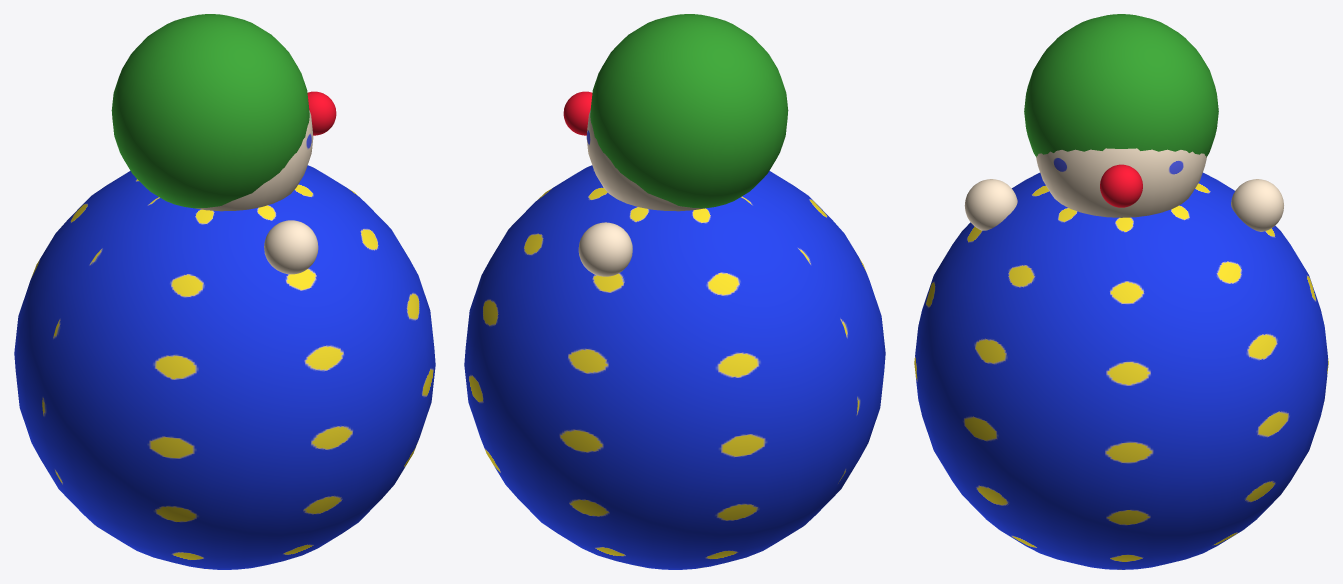
File: clown_blueyellowdot.gltf
3 renders of one model, left to right at view 1: azimuth 30°, elevation 25°; view 2: azimuth 150°, elevation 25°; view 3: azimuth 270°, elevation 25°, orthographic.
Parts seen in each view (by area): view 1: Clown; view 2: Clown; view 3: Clown.
Part boxes in pixels (<box>): Clown: <box>14,14,435,569</box>; Clown: <box>464,14,885,569</box>; Clown: <box>914,14,1328,569</box>.
Bounding box in the file's own units: 2 × 2.77 × 2.
1 material, 1 textured.
